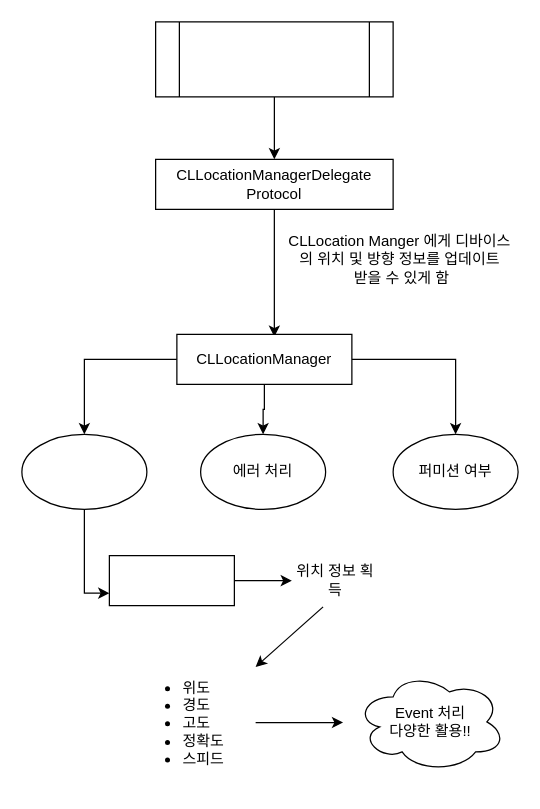
The diagram is 540 pixels wide and 809 high, and some of its shapes have lost their labels. Each missing label, with the centre of its shape:
CLLocation: (171,580)
CoreLocation framwork: (273,59)
위치 정보 변경: (84,471)
